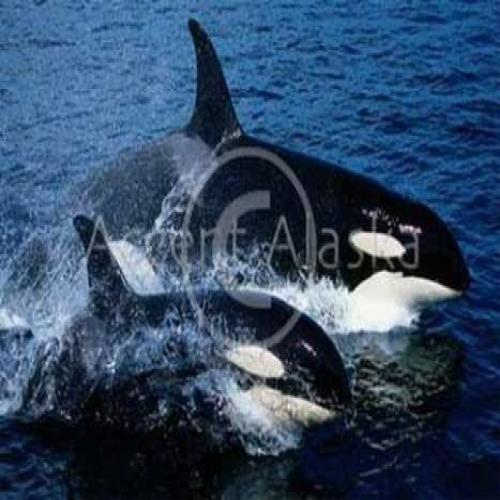killer_whale-endangered: (138, 6, 457, 344), (11, 211, 343, 462)
